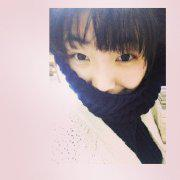WRONG: (60, 27, 151, 118)
